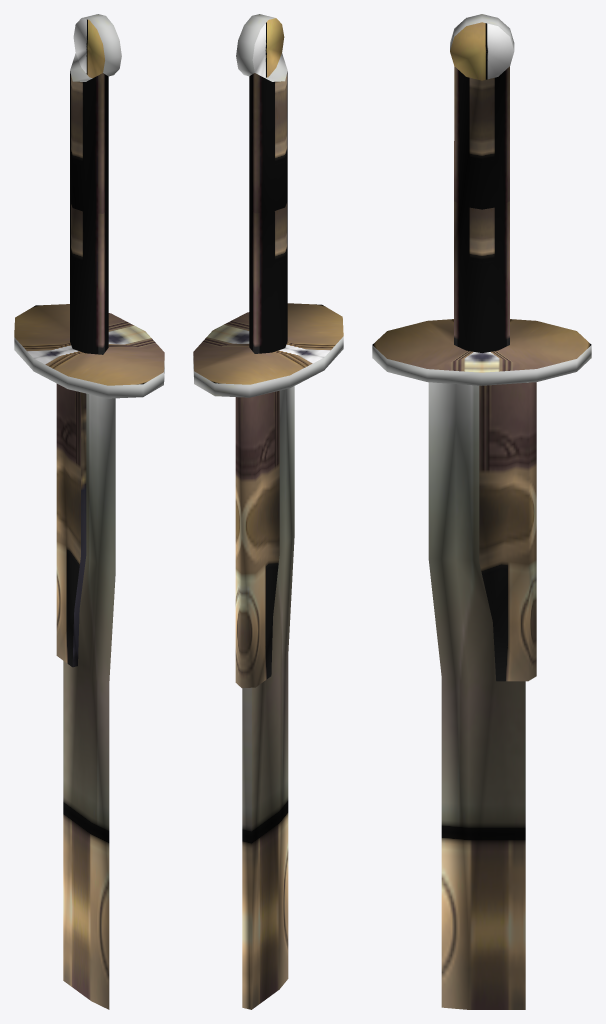
The model's file is dualswordsa2l.obj.
The picture shows the model from 3 angles, left to right: view 1: azimuth 30°, elevation 25°; view 2: azimuth 150°, elevation 25°; view 3: azimuth 270°, elevation 25°; orthographic projection. The views are drawn at different scales.
Visible parts, largest first — view 1: MDL_w2dswa2l_bod00; view 2: MDL_w2dswa2l_bod00; view 3: MDL_w2dswa2l_bod00.
Boxes of the visible parts, box(x1,y1,x2,y2) form: MDL_w2dswa2l_bod00: box(14, 14, 164, 1009); MDL_w2dswa2l_bod00: box(193, 14, 343, 1009); MDL_w2dswa2l_bod00: box(372, 14, 591, 1009).
Bounding box in the file's own units: 0.0917 × 0.7648 × 0.153.
